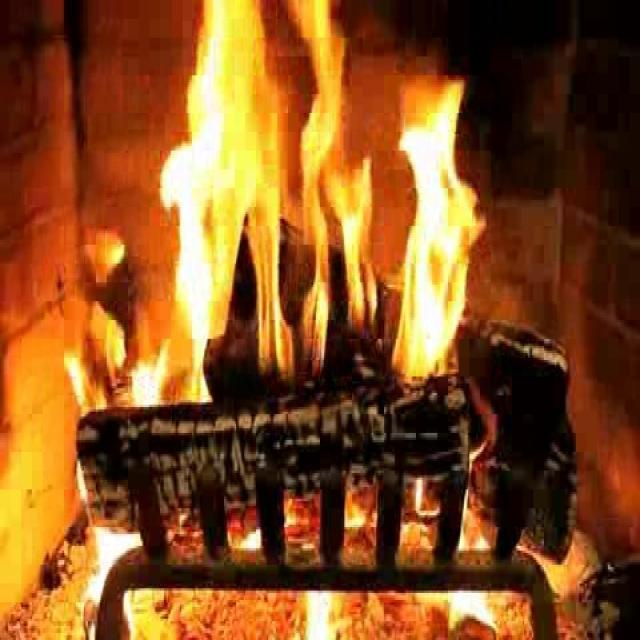Fire: (157, 14, 483, 384)
